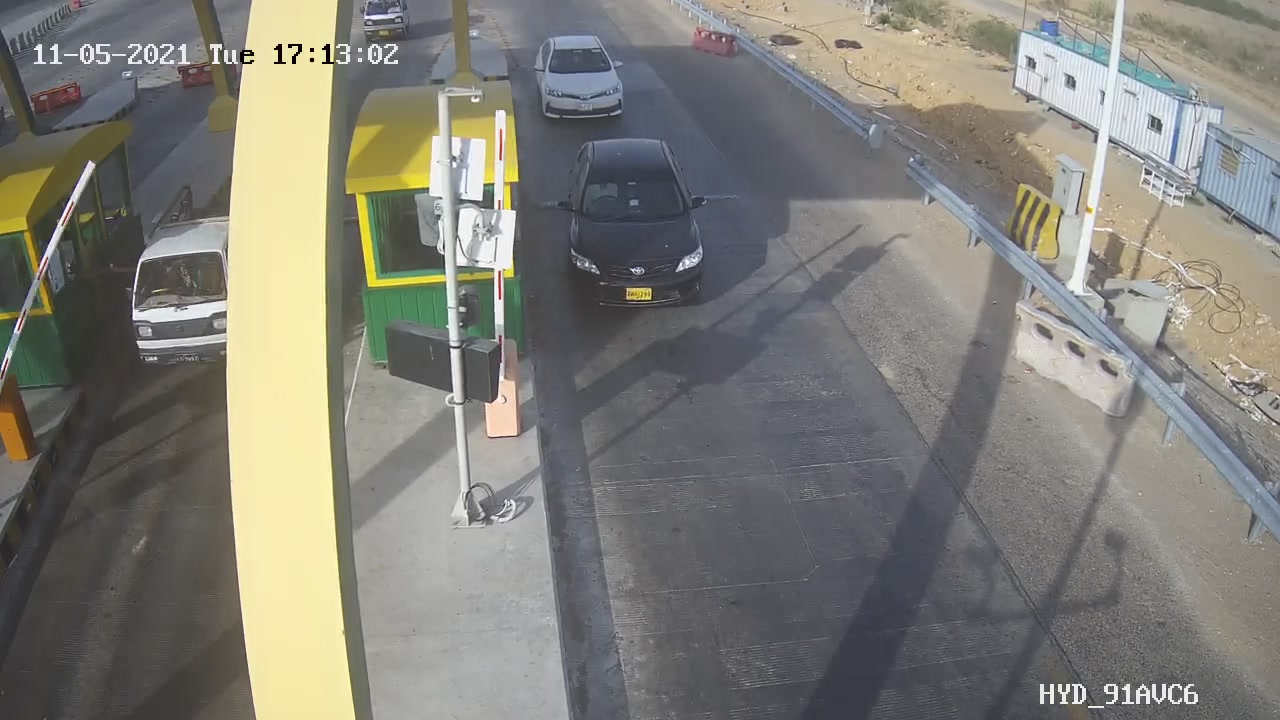F1: (546, 124, 726, 320), (525, 22, 638, 136)
